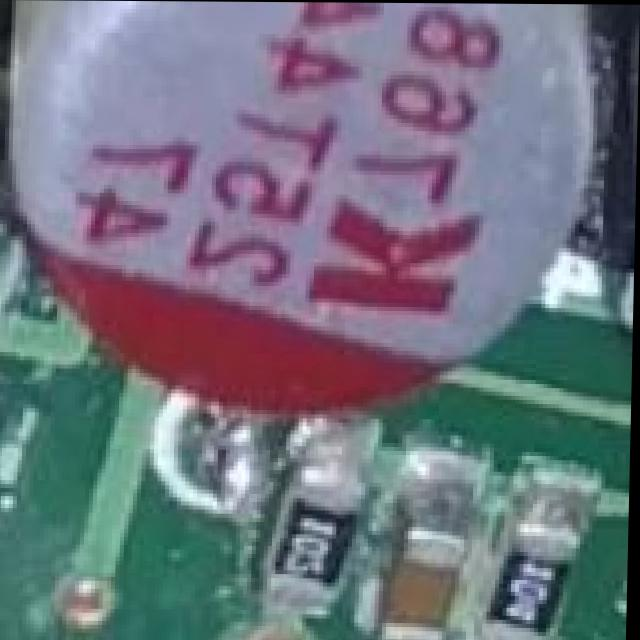capacitor: (0, 0, 620, 420), (614, 4, 640, 560), (377, 494, 467, 640)
resistor: (273, 472, 360, 610), (485, 519, 575, 640)
transistor: (625, 488, 632, 640)
